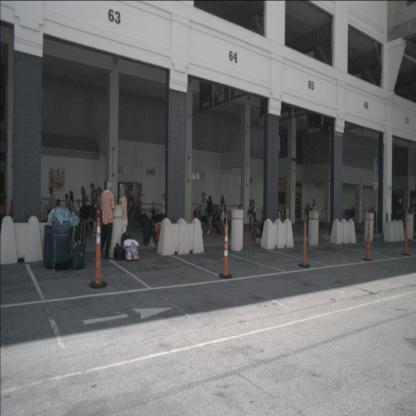human-pedestrian-adult: (97, 181, 116, 260), (118, 186, 128, 256), (90, 186, 102, 237), (79, 186, 91, 232), (48, 186, 58, 235), (152, 214, 164, 252), (249, 218, 267, 242), (127, 190, 137, 232), (200, 192, 210, 234), (90, 182, 98, 229), (247, 199, 257, 233), (219, 194, 227, 234), (207, 195, 215, 235), (74, 198, 83, 230), (160, 194, 166, 232), (311, 199, 318, 231), (408, 204, 414, 235), (150, 201, 157, 227), (306, 203, 312, 220), (351, 205, 356, 219), (370, 206, 375, 220)
movable_object-trafficcone: (89, 208, 107, 290), (218, 215, 233, 279), (298, 215, 310, 268), (362, 217, 372, 261), (401, 218, 410, 256)
